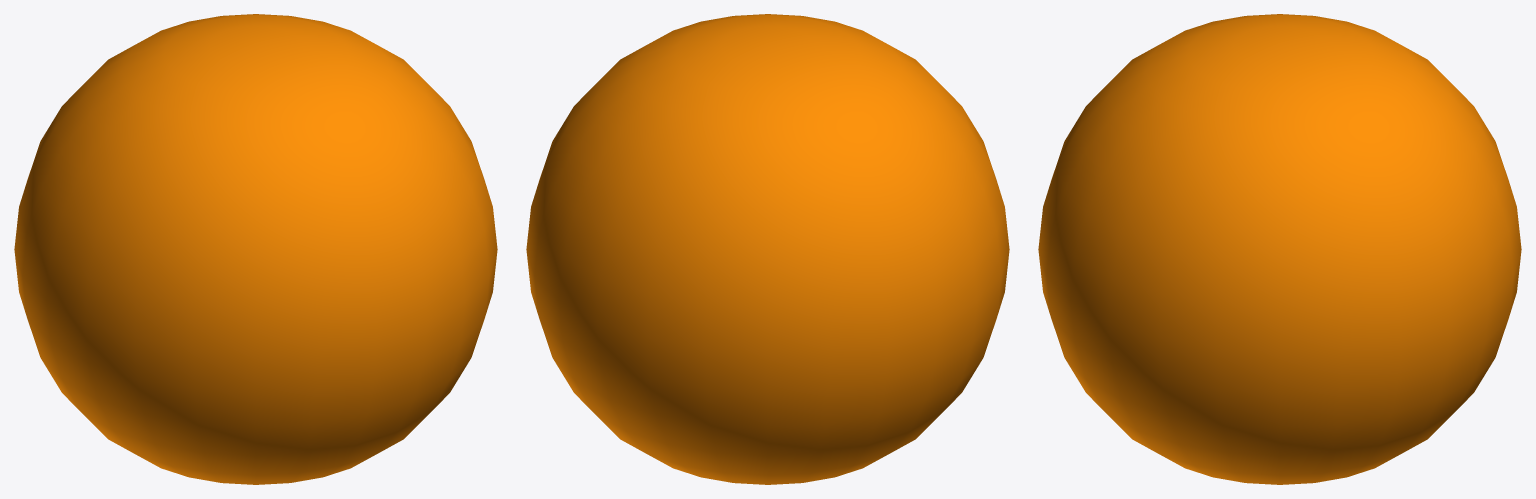
The model's file is Orange.fbx.
3 views of the same model, side by side, from view 1: azimuth 30°, elevation 25°; view 2: azimuth 150°, elevation 25°; view 3: azimuth 270°, elevation 25° (orthographic).
Parts seen in each view (by area): view 1: Orange; view 2: Orange; view 3: Orange.
Part boxes in pixels (x1,y1,x2,y2): Orange: (14, 14, 497, 484); Orange: (526, 14, 1009, 484); Orange: (1038, 14, 1521, 484).
Size of the model in its own units: 0.08 by 0.0752 by 0.08.
